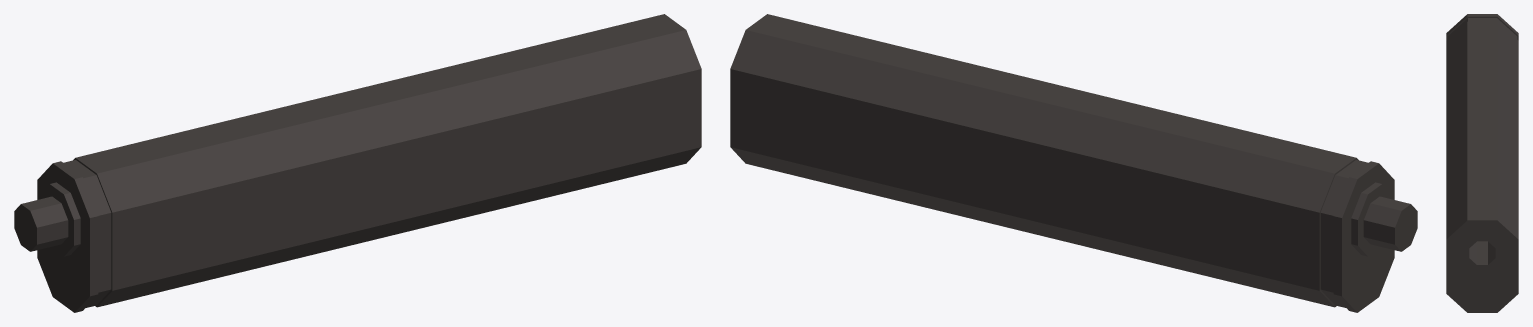
Rendered from Muffler_02_5.fbx.
The picture shows the model from 3 angles, left to right: view 1: azimuth 30°, elevation 25°; view 2: azimuth 150°, elevation 25°; view 3: azimuth 270°, elevation 25°; orthographic projection. The views are drawn at different scales.
Parts seen in each view (by area): view 1: Muffler_02_5; view 2: Muffler_02_5; view 3: Muffler_02_5.
Part boxes in pixels (left/top/right/bottom): Muffler_02_5: left=14, top=14, right=701, bottom=312; Muffler_02_5: left=730, top=14, right=1417, bottom=312; Muffler_02_5: left=1446, top=14, right=1518, bottom=312.
Bounding box in the file's own units: 0.2491 × 0.049 × 0.0348.
